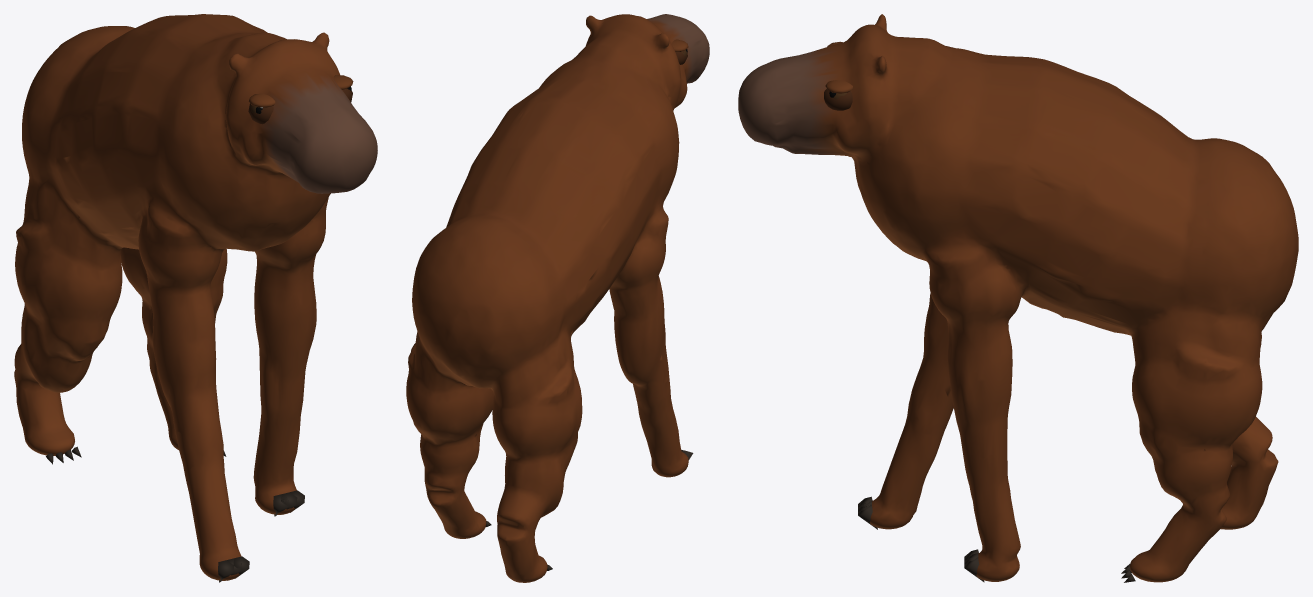
The model's file is SivapithecusIndicus.fbx.
3 renders of one model, left to right at view 1: azimuth 30°, elevation 25°; view 2: azimuth 150°, elevation 25°; view 3: azimuth 270°, elevation 25°, orthographic. The views are drawn at different scales.
Parts seen in each view (by area): view 1: SivapithecusIndicus; view 2: SivapithecusIndicus; view 3: SivapithecusIndicus.
Boxes of the visible parts, box(x1,y1,x2,y2) form: SivapithecusIndicus: box(14, 14, 377, 582); SivapithecusIndicus: box(406, 14, 709, 582); SivapithecusIndicus: box(738, 14, 1298, 582).
Size of the model in its own units: 0.3666 by 0.976 by 0.9482.
